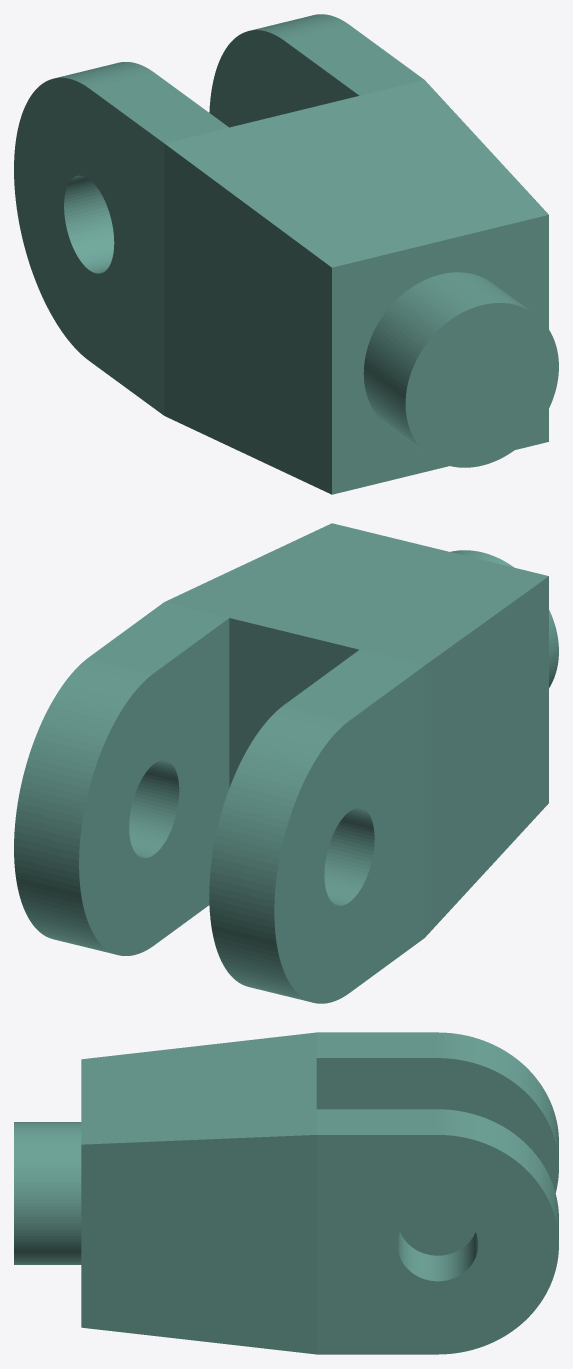
3 renders of one model, top to bottom at view 1: azimuth 30°, elevation 25°; view 2: azimuth 150°, elevation 25°; view 3: azimuth 270°, elevation 25°, orthographic. The views are drawn at different scales.
Parts seen in each view (by area): view 1: node; view 2: node; view 3: node.
Boxes of the visible parts, x1,y1,x2,y2 form: node: [14, 14, 558, 494]; node: [14, 523, 558, 1003]; node: [14, 1032, 558, 1354].
Bounding box in the file's own units: 0.0772 × 0.0772 × 0.1737.
